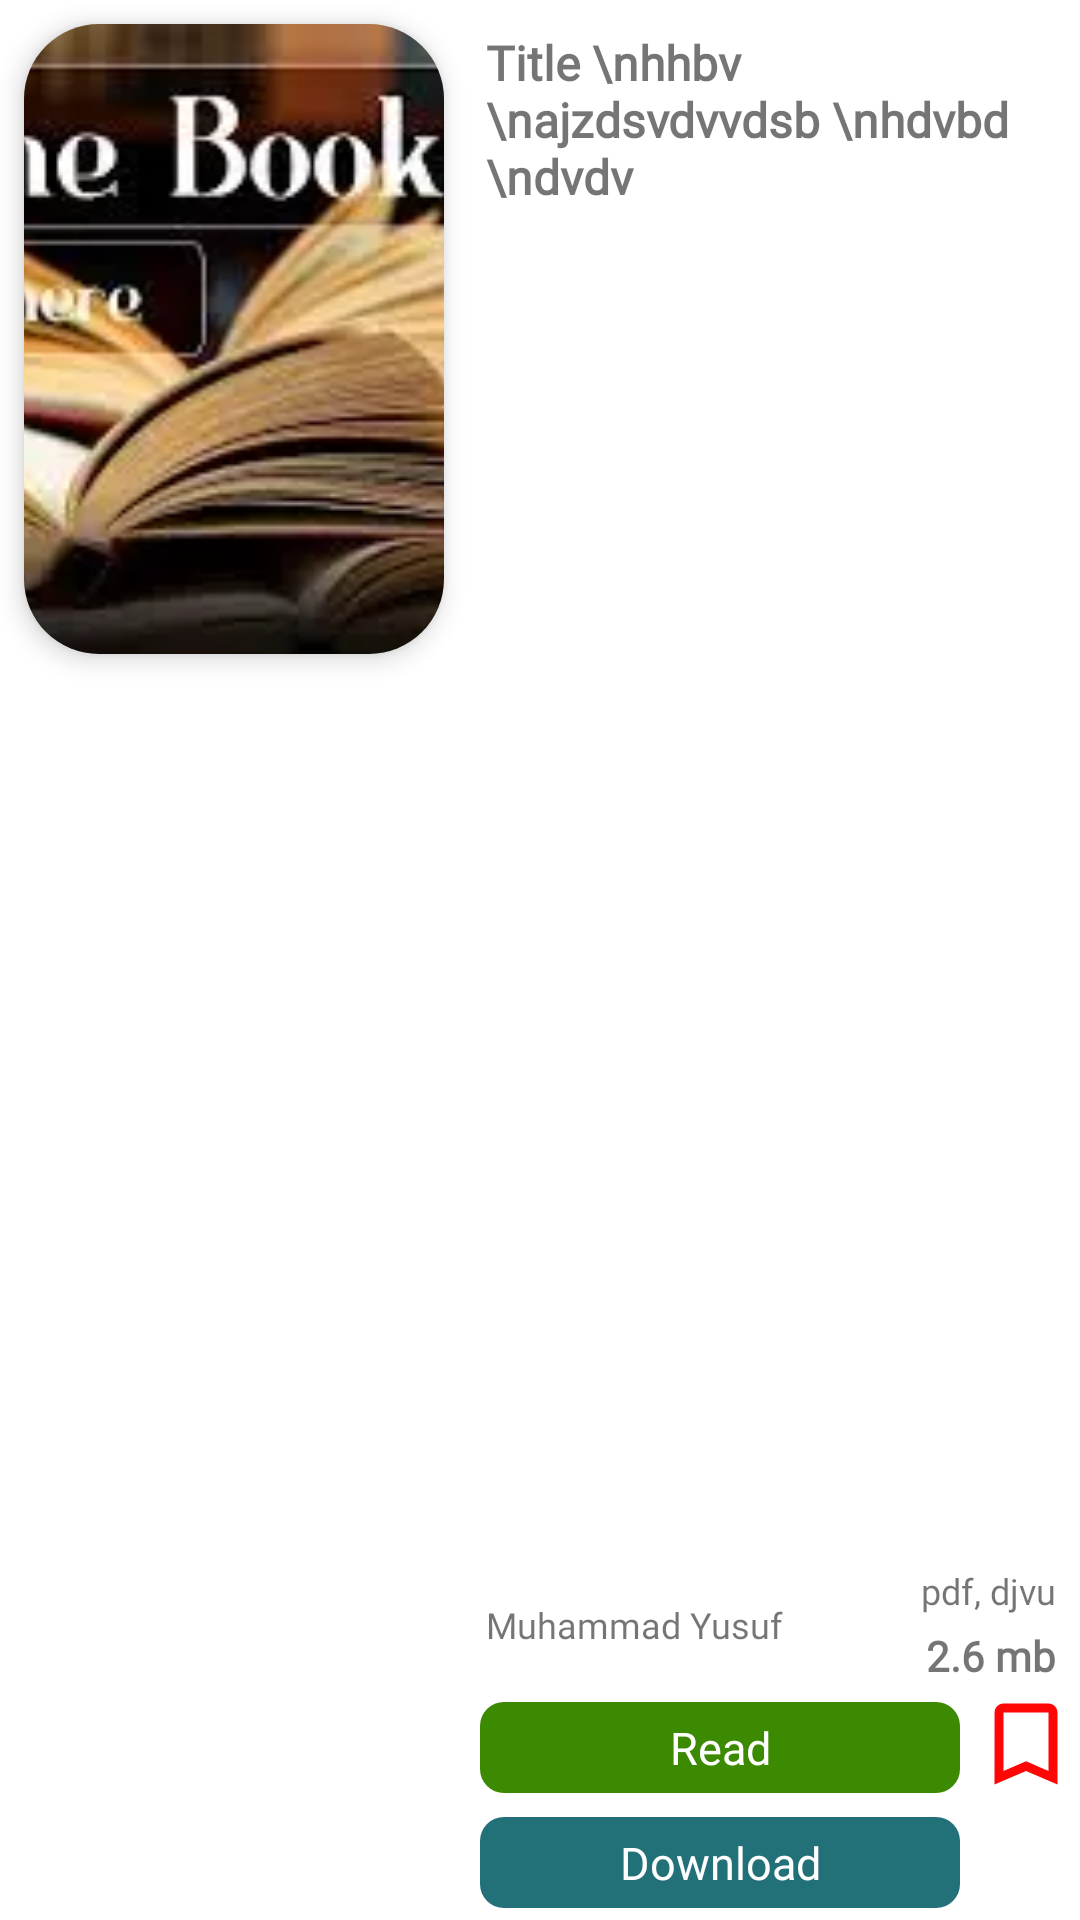

Icon click points for this 1080x1920 phone screenshot, format (x=x, y=y):
favourite: (x=1026, y=1744)
